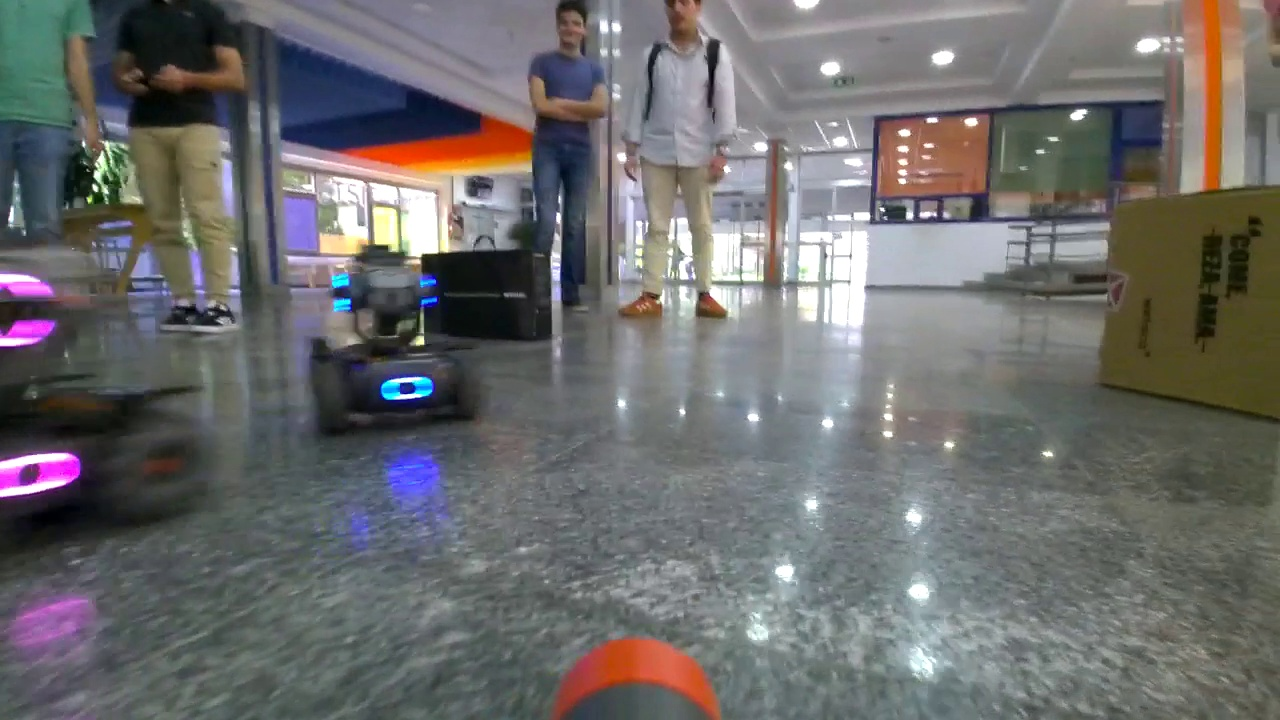robot: (2, 266, 209, 527), (309, 256, 479, 430)
